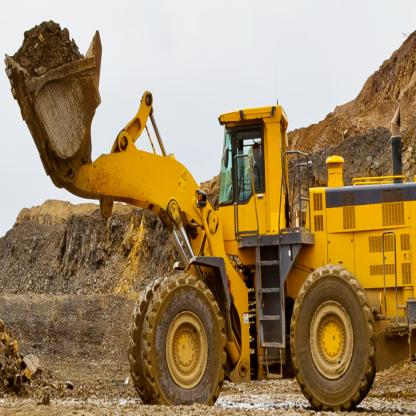bull_dozer/loader/grader: (8, 19, 415, 415)
